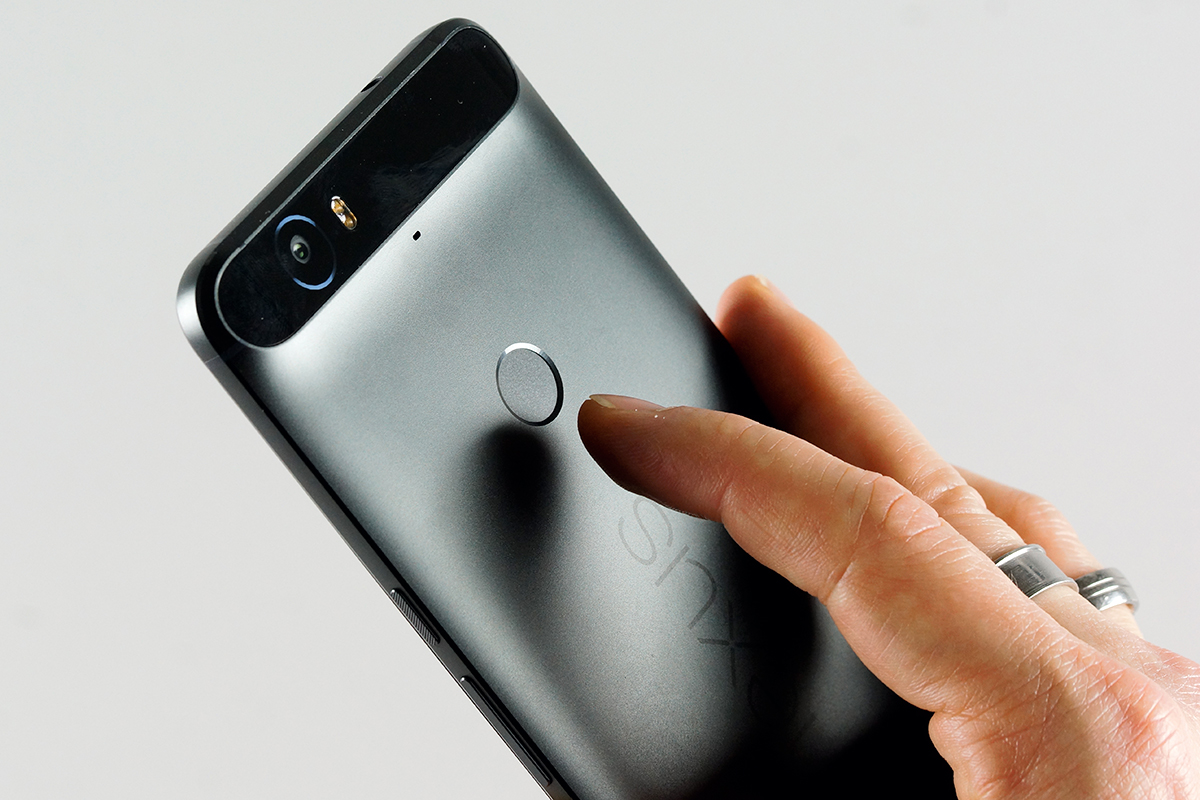smartphone: (177, 18, 957, 800)
